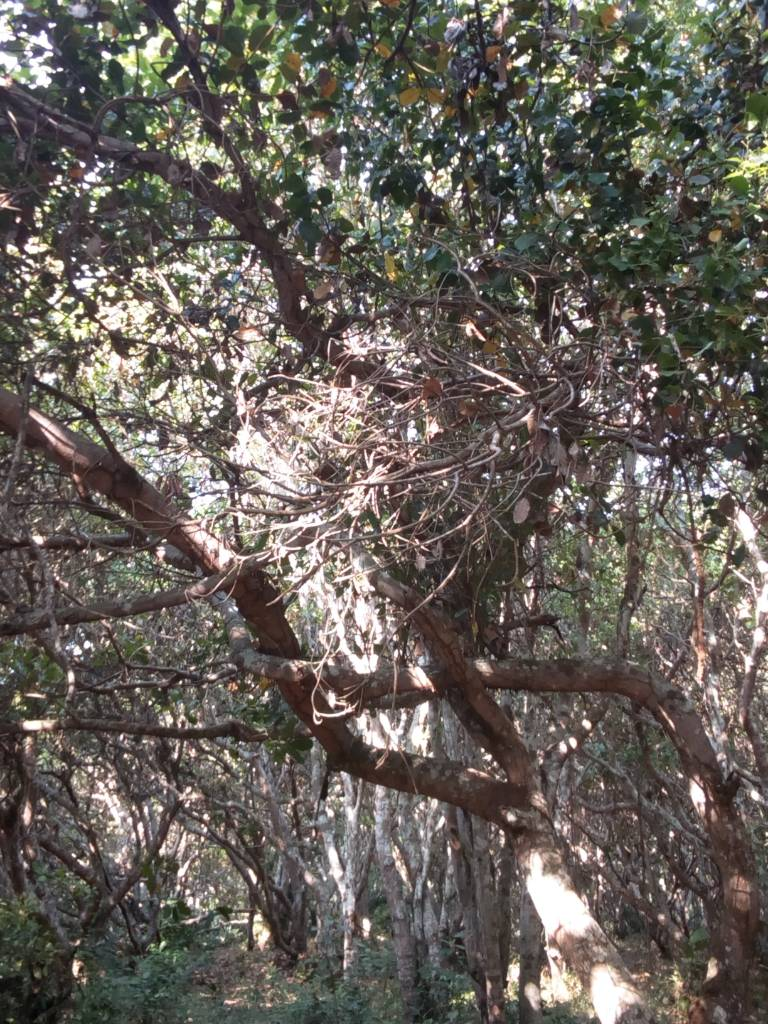Termites: (710, 778, 758, 924), (499, 658, 675, 696)
